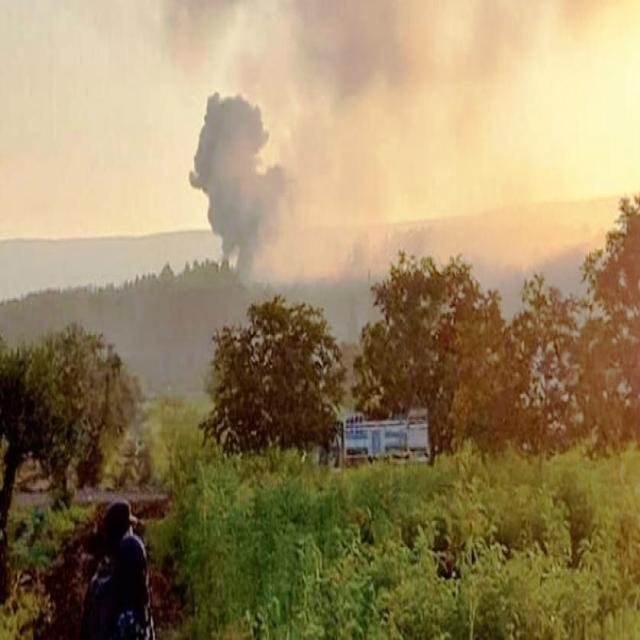asap: (178, 1, 583, 121), (201, 89, 323, 284)
